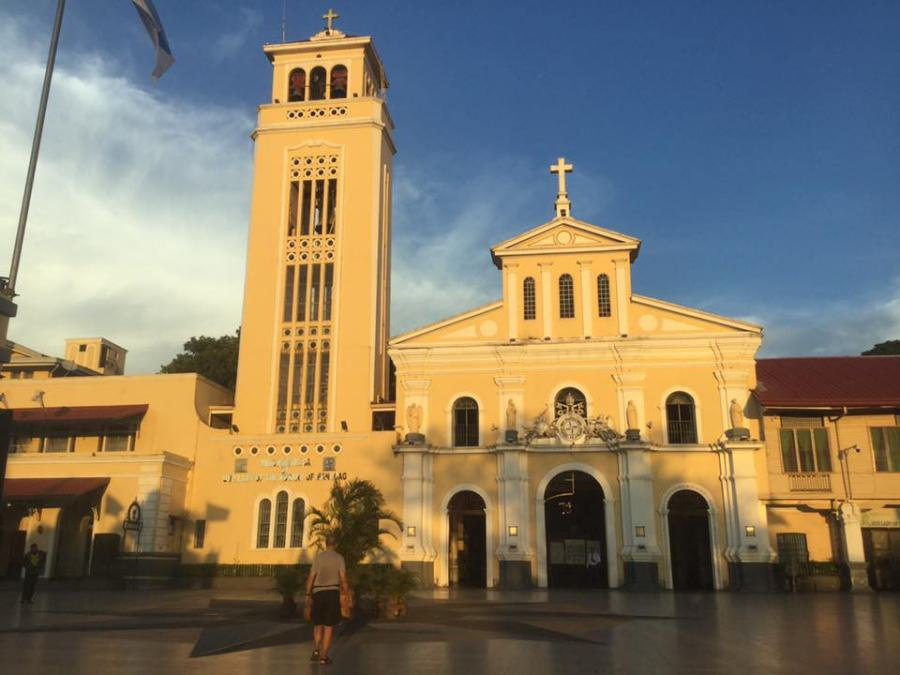manaoag_church_manaoag_pangasinan: (228, 5, 767, 598)
